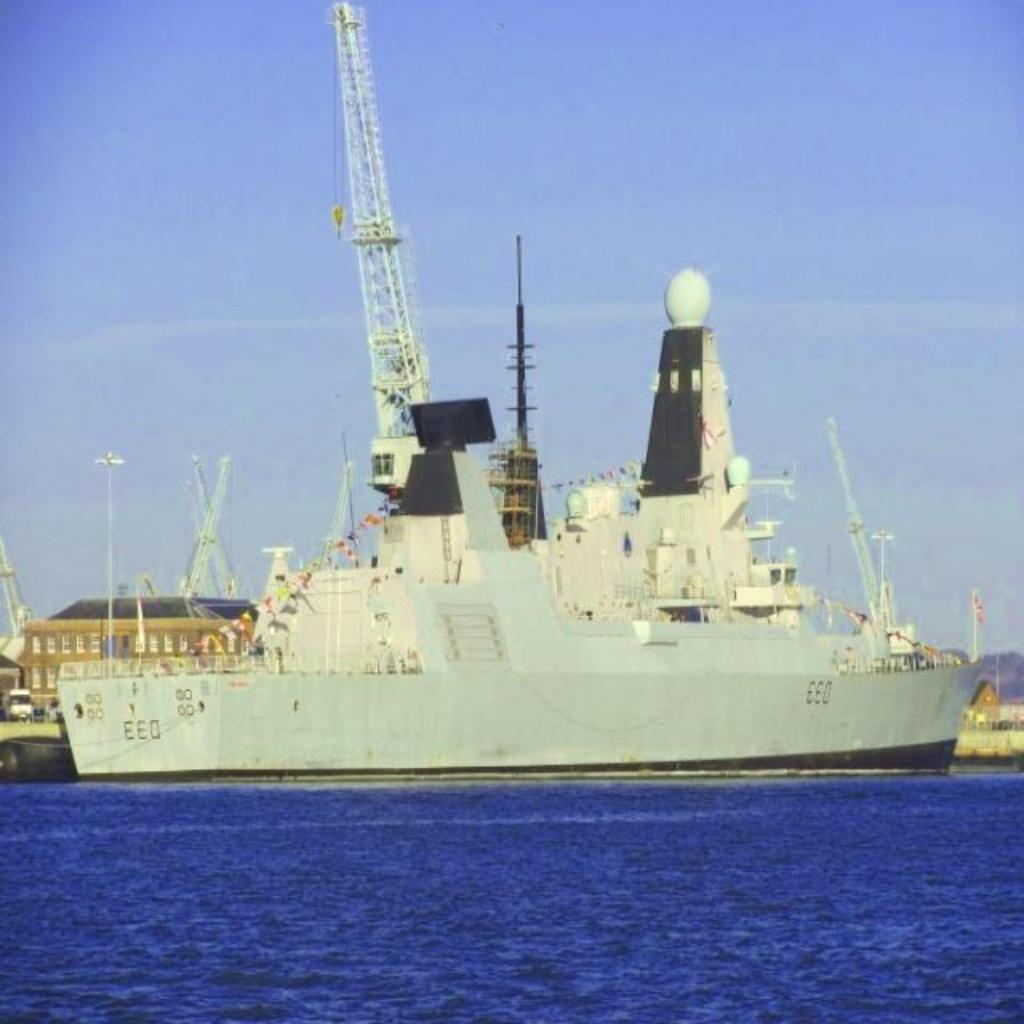Warship: (46, 246, 1000, 784)
